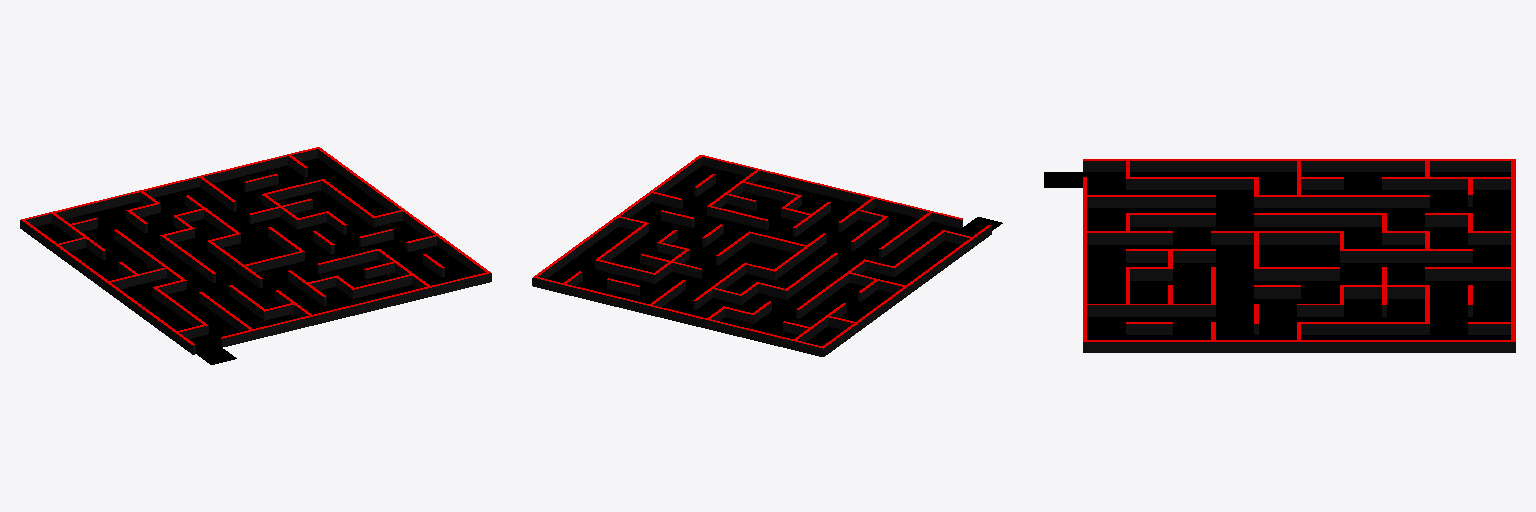
The robot description file, URDF, robot "minus_maze":
<?xml version="1.0"?>
<robot name="minus_maze">

	<link name="minus/base_link">
		<inertial>
			<origin xyz="0.0 0.0 0.0" rpy="0.0 0.0 0.0"/>
			<mass value="1.0"/>
			<inertia ixx="0.0" ixy="0.0" ixz="0.0" iyy="0.0" iyz="0.0" izz="0.0"/>
		</inertial>
		<visual name="">
			<origin xyz="0.0 0.0 0.0" rpy="0.0 0.0 0.0"/>
			<geometry>
				<mesh filename="package://doogie_description/mazes/minus.dae"/>
			</geometry>
		</visual>
		<collision>
			<origin xyz="0.0 0.0 0.0" rpy="0.0 0.0 0.0"/>
			<geometry>
				<mesh filename="package://doogie_description/mazes/minus.dae"/>
			</geometry>
		</collision>
	</link>

</robot>

--- Render facts (derived) ---
3 views of the same robot in one strip: view 1: azimuth 30°, elevation 25°; view 2: azimuth 150°, elevation 25°; view 3: azimuth 270°, elevation 25° (orthographic).
Robot: minus_maze — 1 links, 0 joints (none); root link minus/base_link; default pose: all joints at 0.
Links seen in each view (by area): view 1: minus/base_link; view 2: minus/base_link; view 3: minus/base_link.
Link boxes in pixels (bbox=[...]): minus/base_link: bbox=[20, 147, 491, 364]; minus/base_link: bbox=[532, 155, 1002, 356]; minus/base_link: bbox=[1044, 159, 1515, 352].
Bounding box of the posed robot: 1.7 × 1.85 × 0.05 m (x, y, z).
Meshes: 1 distinct files referenced, 1 mesh visuals loaded (1 Collada DAE).